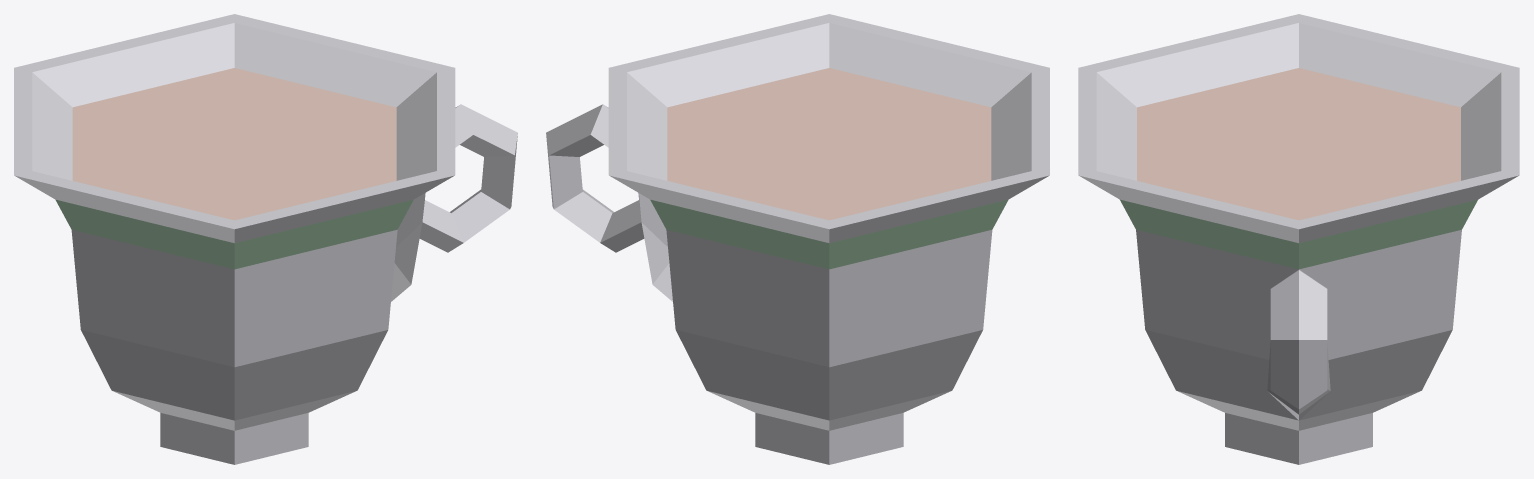
The model's file is Coffe.fbx.
3 renders of one model, left to right at view 1: azimuth 30°, elevation 25°; view 2: azimuth 150°, elevation 25°; view 3: azimuth 270°, elevation 25°, orthographic.
Visible parts, largest first — view 1: Coffe; view 2: Coffe; view 3: Coffe.
Part boxes in pixels (x1,y1,x2,y2): Coffe: (14, 14, 517, 464); Coffe: (546, 14, 1049, 464); Coffe: (1078, 14, 1519, 464).
Bounding box in the file's own units: 0.1146 × 0.0667 × 0.0868.
